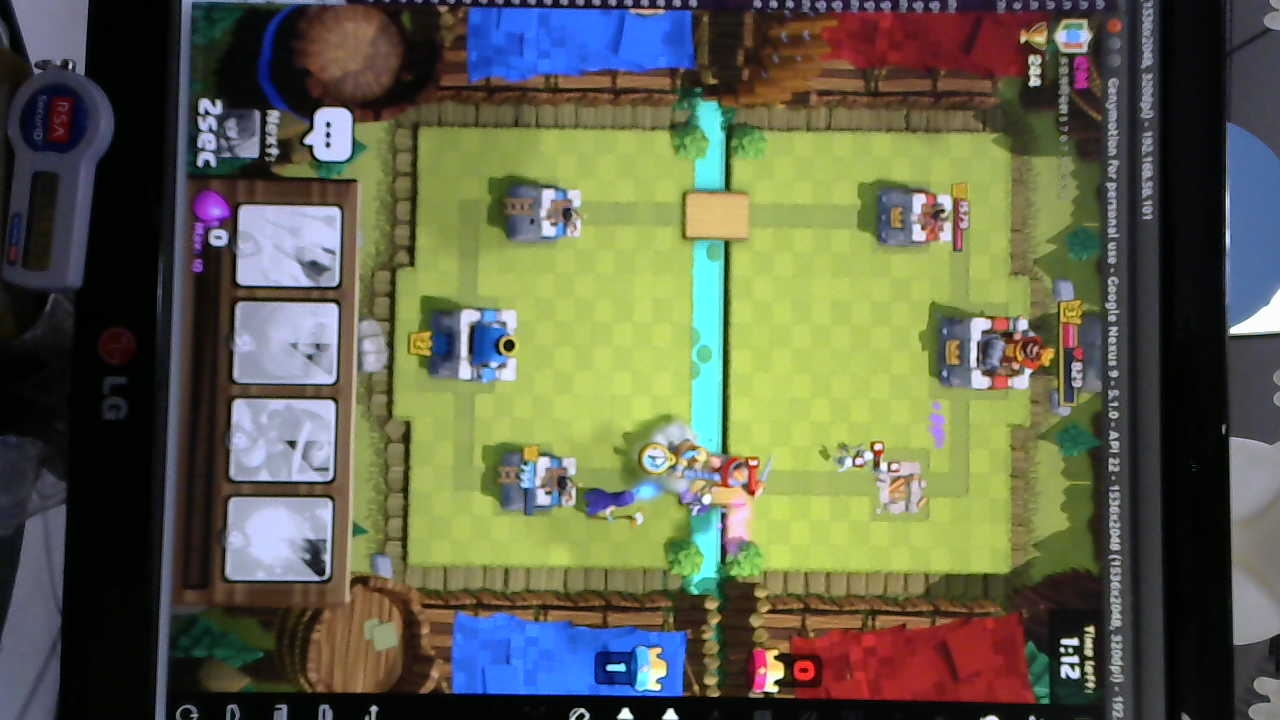arena: (502, 180, 590, 245), (495, 451, 581, 517)
darena: (874, 460, 929, 524)
earena: (874, 186, 955, 253)
eking: (935, 307, 1045, 393)
king: (430, 306, 523, 384)
knight: (715, 451, 767, 500)
prince: (667, 438, 724, 482)
skeleton: (829, 439, 887, 474)
witch: (576, 481, 641, 529)
